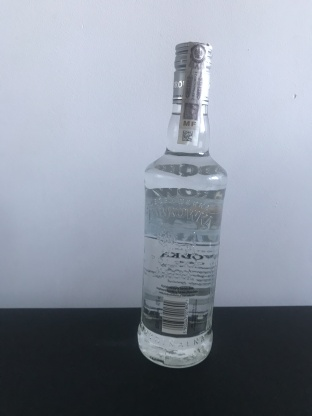nakretka: (170, 38, 214, 108)
